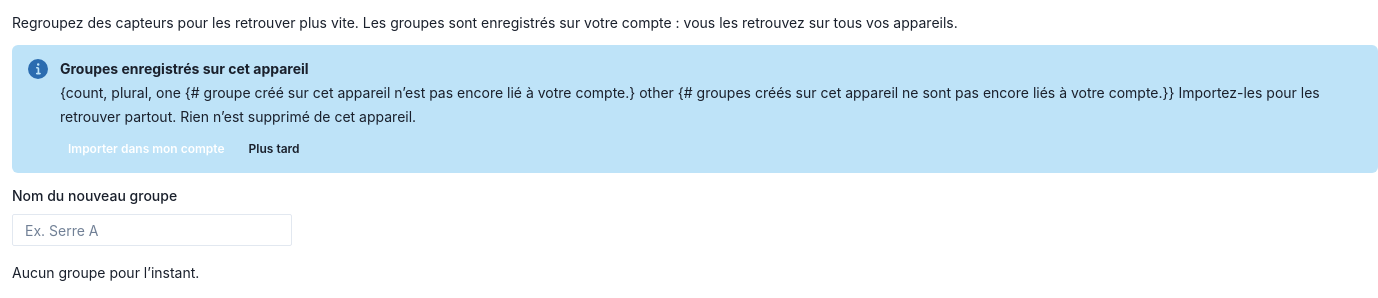
Scenario: SensorGroupsSettings — legacy device-local groups › dismissing keeps the local data and never nags again
Click the button "Plus tard" at (274, 149), box x1=240 y1=137 x2=308 y2=161
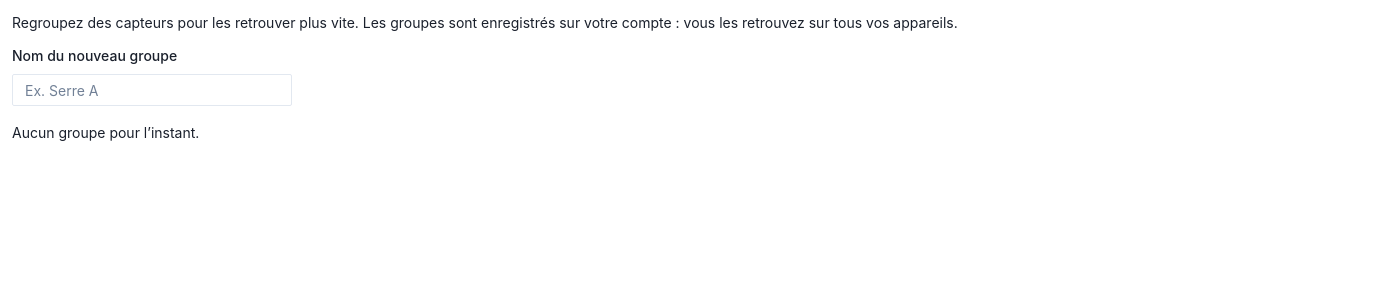
expect the message with test id "groups-import-offer" is gone: met
